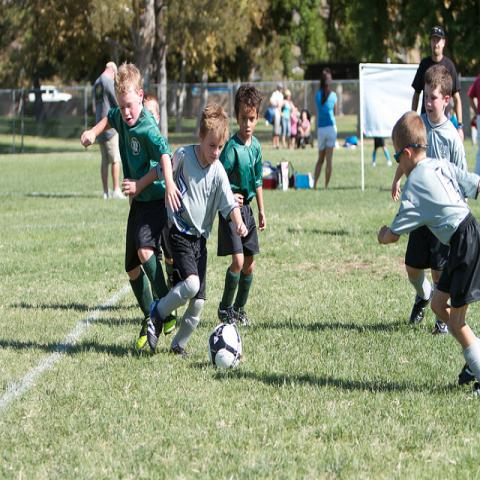car: (28, 86, 72, 102)
